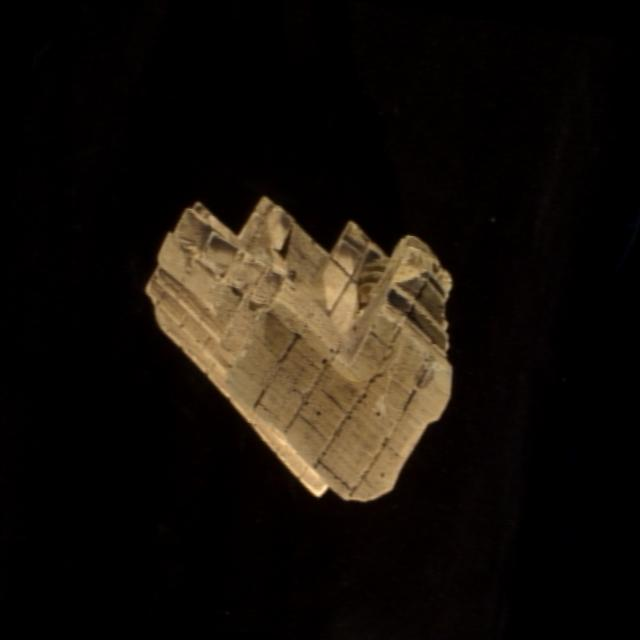Instance-Segmentation: (146, 198, 452, 500)
